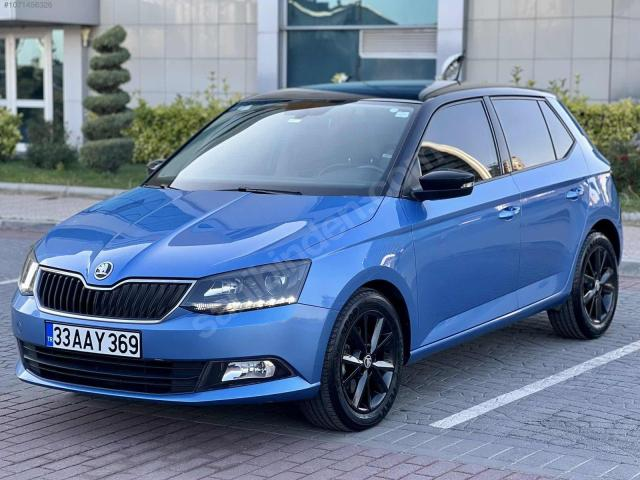plaka: (47, 323, 140, 358)
